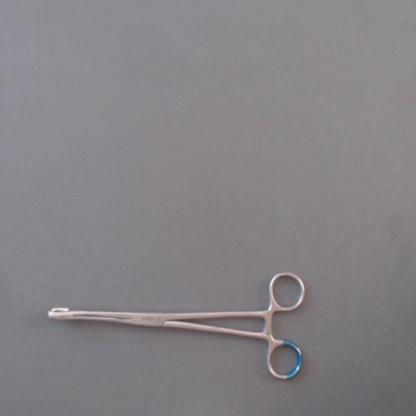Sponge Forceps: (40, 262, 314, 392)
